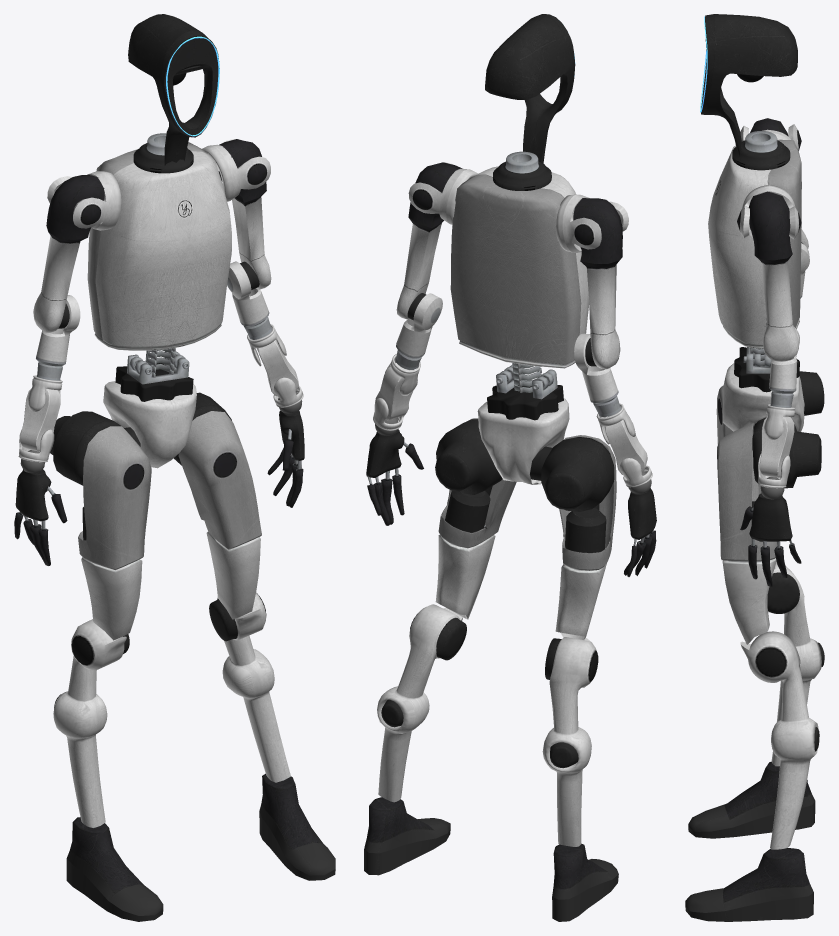
The model's file is robot.glb.
3 renders of one model, left to right at view 1: azimuth 30°, elevation 25°; view 2: azimuth 150°, elevation 25°; view 3: azimuth 270°, elevation 25°, orthographic. The views are drawn at different scales.
Visible parts, largest first — view 1: android_0; view 2: android_0; view 3: android_0.
Boxes of the visible parts, x1,y1,x2,y2 form: android_0: (14,14,335,921); android_0: (364,14,656,921); android_0: (685,14,824,921).
Bounding box in the file's own units: 0.5102 × 1.5 × 0.2254.
4 materials, 1 textured.
